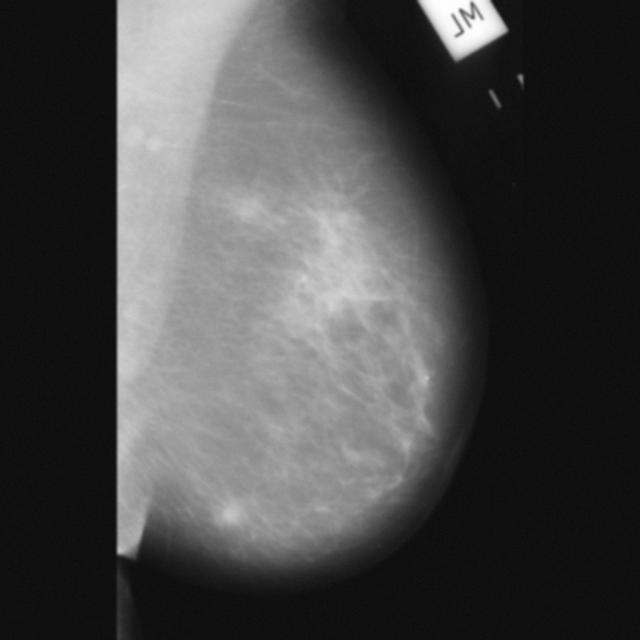SPIC: (219, 504, 241, 526)
